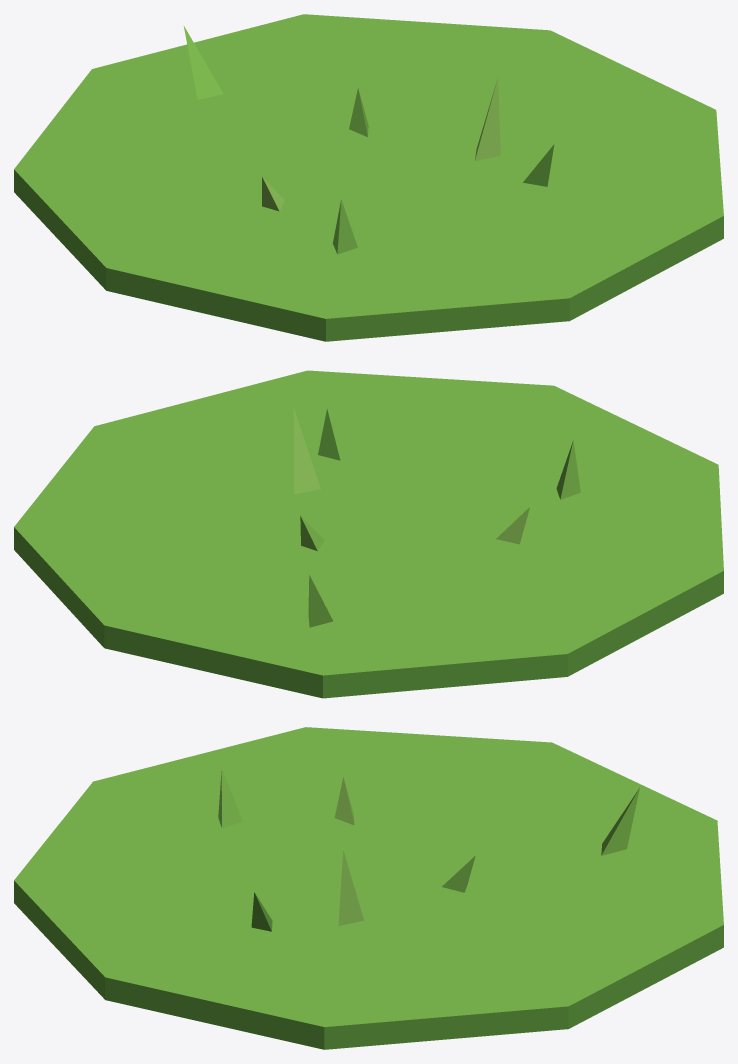
The model's file is patch-grass.glb.
3 renders of one model, top to bottom at view 1: azimuth 30°, elevation 25°; view 2: azimuth 150°, elevation 25°; view 3: azimuth 270°, elevation 25°, orthographic.
Parts seen in each view (by area): view 1: patch-grass; view 2: patch-grass; view 3: patch-grass.
Boxes of the visible parts, x1,y1,x2,y2 form: patch-grass: [14, 14, 723, 341]; patch-grass: [14, 370, 723, 698]; patch-grass: [14, 727, 723, 1049].
Size of the model in its own units: 1 by 0.17 by 1.
1 material, 1 textured.
